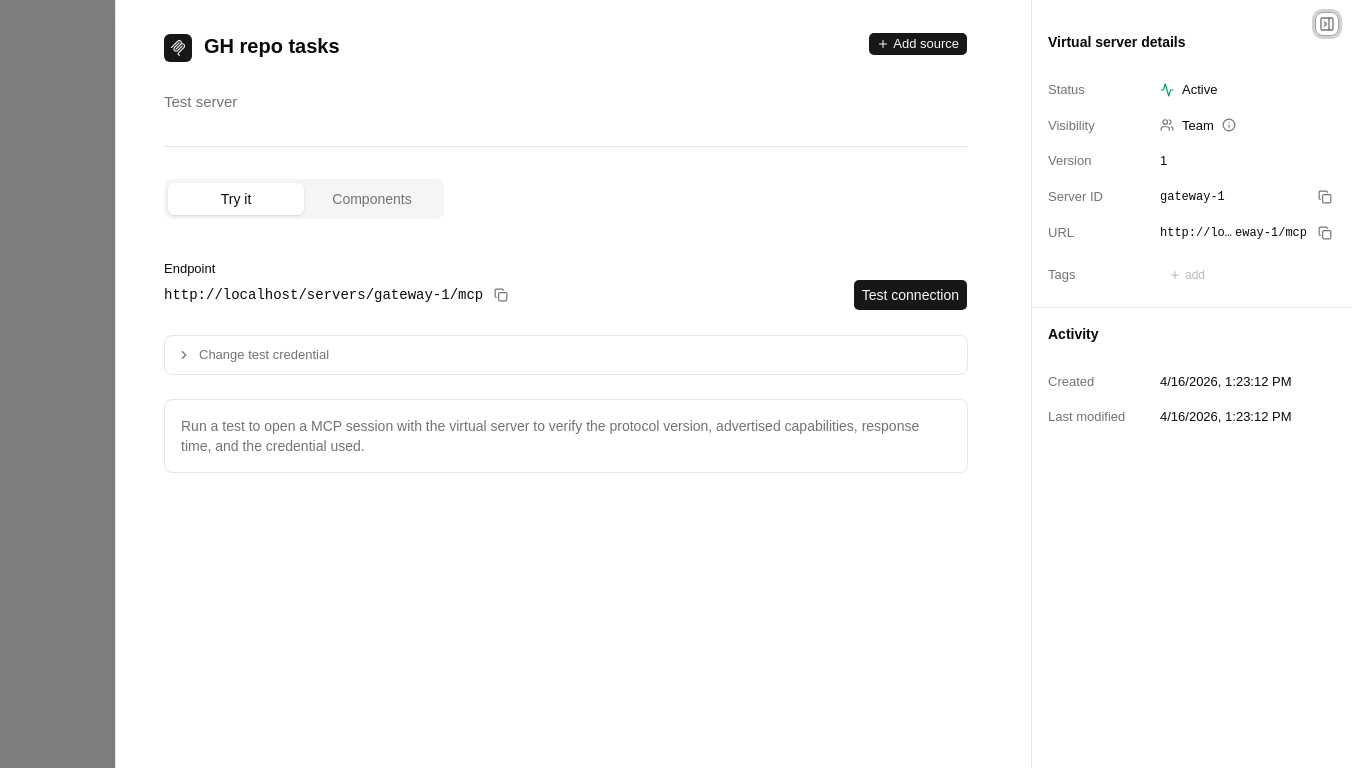
Test: VirtualServerDetailsPanel test connection tab › flags a component-count mismatch using the panel's own aggregated counts
The image size is (1366, 768).
Click the tab "Try it" at (236, 199), box [168,183,304,215]
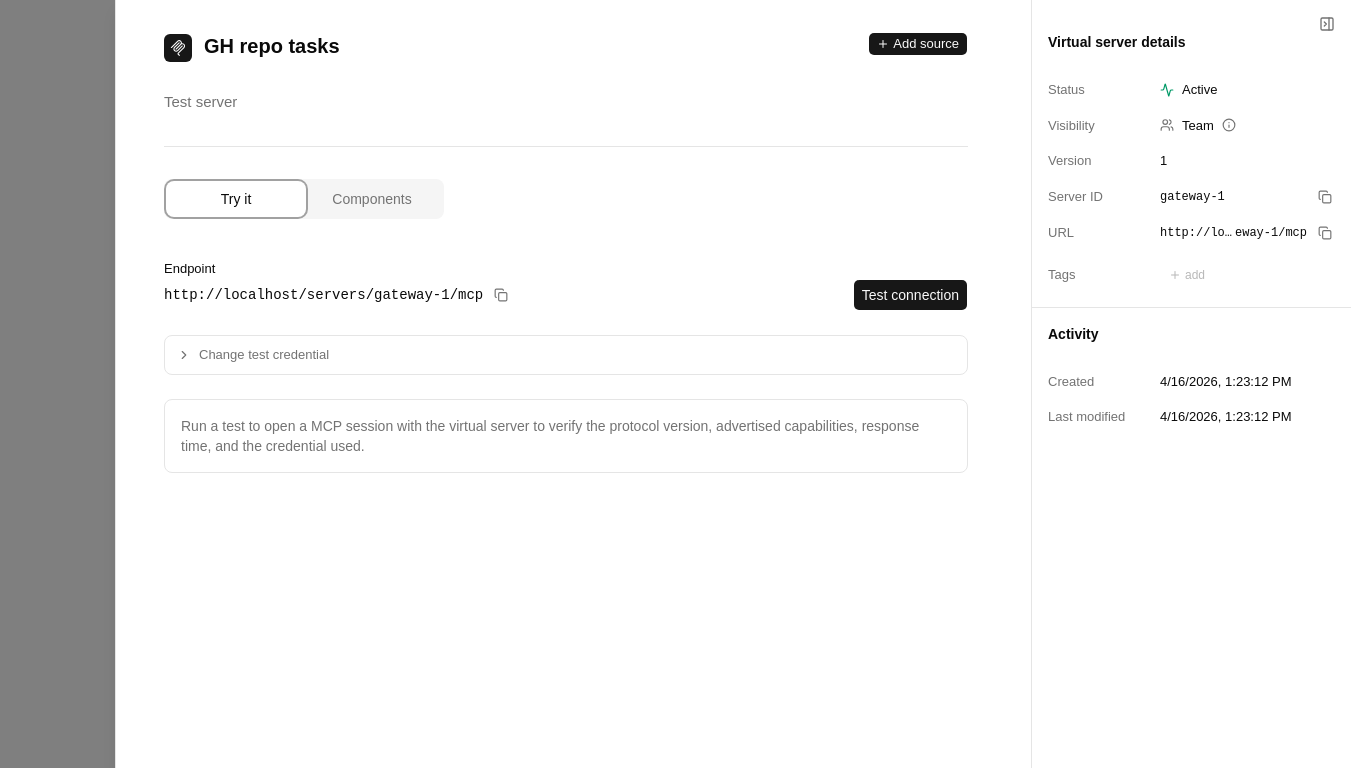
Click the button "Test connection" at (910, 294), box [853,278,968,310]
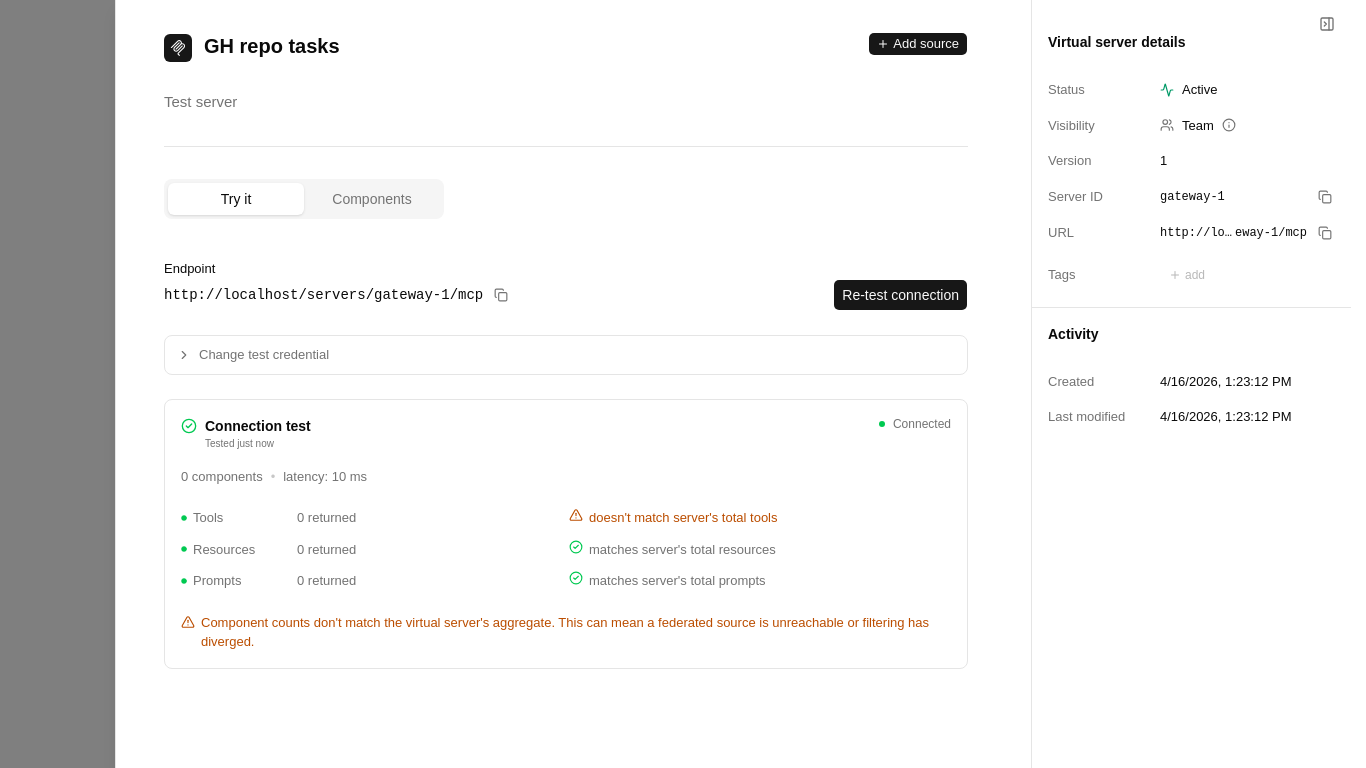
Expected: the text "Connection test" is shown, [205,416,311,436]
Expected: the text "counts don.t match the virtual server.s aggregate" is shown, [201,614,929,649]
